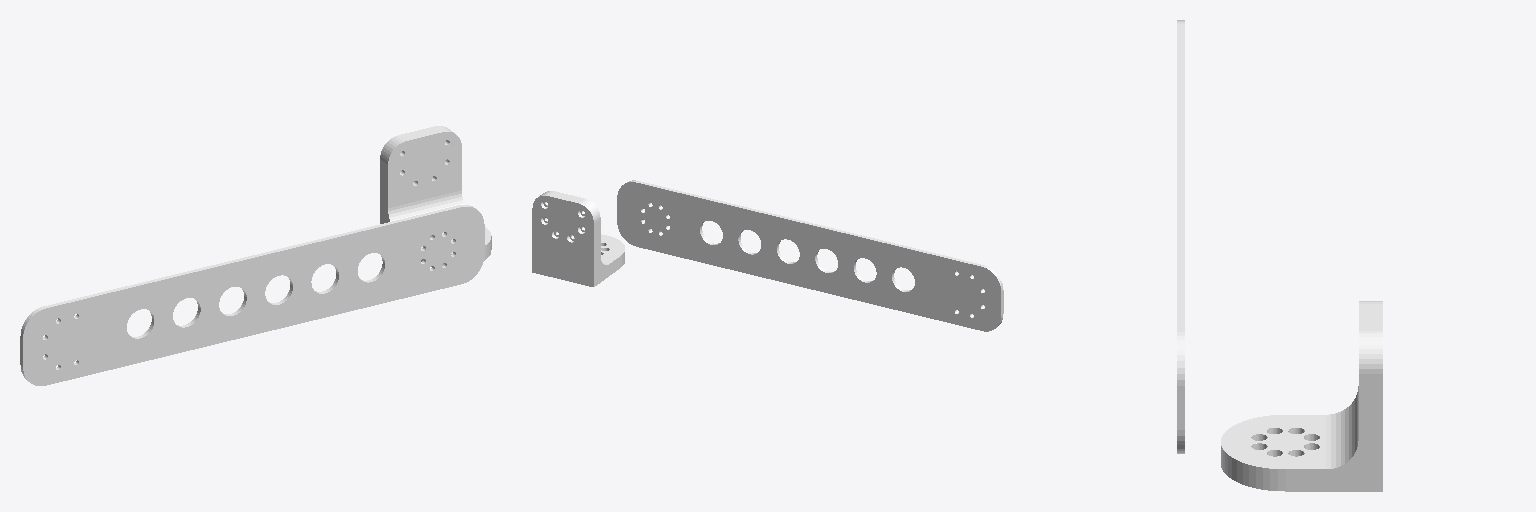
The robot description file, URDF, robot "example":
<?xml version="1.0"?>

<robot name="example">
  
  <!-- *************************************************** -->
  <!-- ***************** Kinematic Chain ***************** -->
  <!-- *************************************************** -->
  <!-- Note the 'origin' tag in the joints defines the
       shift and reorientation before the continuous joint
       rotates around the 'axis'. -->

  <!-- Locate the base plate at the world origin. -->
  <joint name="place" type="fixed">
    <parent link="world"/>
    <child  link="baseplate"/>
    <origin xyz="0 0 0" rpy="0 0 0"/>
  </joint>

  <!-- Shift across the base plate to the base motor. -->
  <joint name="baseplate" type="fixed">
    <parent link="baseplate"/>
    <child  link="basemotor"/>
    <origin xyz="0 0 0.02" rpy="0 0 0"/>
  </joint>

  <!-- Base motor.  Thickness: X5 = 31.1mm, X8 = 45.1mm -->
  <joint name="theta1" type="continuous">
    <parent link="basemotor"/>
    <child  link="lbracket"/>
    <origin xyz="0 0 0.0311" rpy="0 0 1.5708"/>
    <axis   xyz="0 0 1"/>
  </joint>
  
  <!-- Shift across the L bracket -->
  <joint name="lbracket" type="fixed">
    <parent link="lbracket"/>
    <child  link="shouldermotor"/>
    <origin xyz="0.0450 0 0.078" rpy="1.5708 1.5708 -1.5708"/> 
  </joint>

  <!-- Shoulder motor.  Thickness: X5 = 31.1mm, X8 = 45.1mm -->
  <joint name="theta2" type="continuous">
    <parent link="shouldermotor"/>
    <child  link="upperarm"/>
    <origin xyz="0 0 0.0451" rpy="0 0 -1.5708"/>
    <axis   xyz="0 0 1"/>
  </joint>

  <!-- Shift across the upper arm (1/4in thickness) -->
  <joint name="upperarm" type="fixed">
    <parent link="upperarm"/>
    <child  link="elbowmotor"/>
    <origin xyz="0.5 0 0.00635" rpy="0 0 0"/>
  </joint>

  <!-- Elbow motor.  Thickness: X5 = 31.1mm, X8 = 45.1mm -->
  <joint name="theta3" type="continuous">
    <parent link="elbowmotor"/>
    <child  link="lowerarm"/>
    <origin xyz="0 0 0.0311" rpy="0 0 0"/>
    <axis   xyz="0 0 1"/>
  </joint>

  <!-- Shift across the upper arm (1/4in thickness) -->
  <joint name="lowerarm" type="fixed">
    <parent link="lowerarm"/>
    <child  link="tip"/>
    <origin xyz="0.5 0 0.003175" rpy="0 0 0"/>
  </joint>

  
  <!-- *************************************************** -->
  <!-- *************** Visual Link Elements ************** -->
  <!-- *************************************************** -->
  <!-- Note collada .dae files have better color/texture   -->
  <!-- suppport that STL files.                            -->

  <!-- Colors -->
  <material name="wood">  <color rgba="0.82 0.62 0.04 1"/>  </material>
  <material name="hebi">  <color rgba="0.82 0.06 0.06 1"/>  </material>
  <material name="plastic">  <color rgba="1.00 1.00 1.00 1"/>  </material>

  <!-- World can't take a visual element (at least in Gazebo). -->
  <link name="world"/>

  <link name="baseplate">
    <!-- Add a visual element -->
  </link>

  <link name="basemotor">
    <visual>
      <geometry>
        <mesh filename="package://basic134/meshes/X5.stl"
	      scale="0.001 0.001 0.001"/>
      </geometry>
      <material name="hebi"/>
    </visual>
  </link>

  <link name="lbracket">
    <visual>
      <geometry>
        <mesh filename="package://basic134/meshes/Lbracket.stl"
		scale="1.0 1.0 1.0"/>
      </geometry>
      <material name="plastic"/>
    </visual>
  </link>

  <link name="shouldermotor">
    <visual>
      <geometry>
        <mesh filename="package://basic134/meshes/X8.stl"
	      scale="0.001 0.001 0.001"/>
      </geometry>
      <material name="hebi"/>
    </visual>
  </link>

  <link name="upperarm">
    <visual>
      <geometry>
	      <mesh filename="package://basic134/meshes/arm.stl"
		    scale="0.001 0.001 0.001"/>
      </geometry>
      <material name="plastic"/>
    </visual>
  </link>

  <link name="elbowmotor">
    <visual>
      <geometry>
        <mesh filename="package://basic134/meshes/X5.stl"
	      scale="0.001 0.001 0.001"/>
      </geometry>
      <material name="hebi"/>
    </visual>
  </link>

  <link name="lowerarm">
    <visual>
      <geometry>
	      <mesh filename="package://basic134/meshes/arm_tip.stl"
		    scale="0.001 0.001 0.001"/>
      </geometry>
      <material name="plastic"/>
    </visual>
  </link>

  <link name="tip"/>

</robot>

--- Render facts (derived) ---
3 views of the same robot in one strip: view 1: azimuth 30°, elevation 25°; view 2: azimuth 150°, elevation 25°; view 3: azimuth 270°, elevation 25° (orthographic).
Model example with 9 links and 8 joints (3 continuous, 5 fixed), rooted at world, posed all joints at 0.
Visible links, largest first — view 1: upperarm, lbracket; view 2: upperarm, lbracket; view 3: lbracket, upperarm.
Boxes of the visible links, <box> form: upperarm: <box>20,205,484,385</box>; lbracket: <box>380,126,491,266</box>; upperarm: <box>617,180,1003,331</box>; lbracket: <box>532,191,624,286</box>; lbracket: <box>1221,301,1382,491</box>; upperarm: <box>1177,20,1184,453</box>.
Bounding box of the posed robot: 0.54 × 0.127 × 0.102 m (x, y, z).
2 mesh visuals loaded from 5 distinct referenced files (2 binary STL); not drawn: 3 (reference not matched to a file when rendering), 1 (file found but could not be loaded).